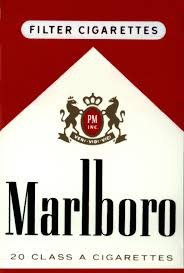marlboro: (1, 1, 183, 272)
